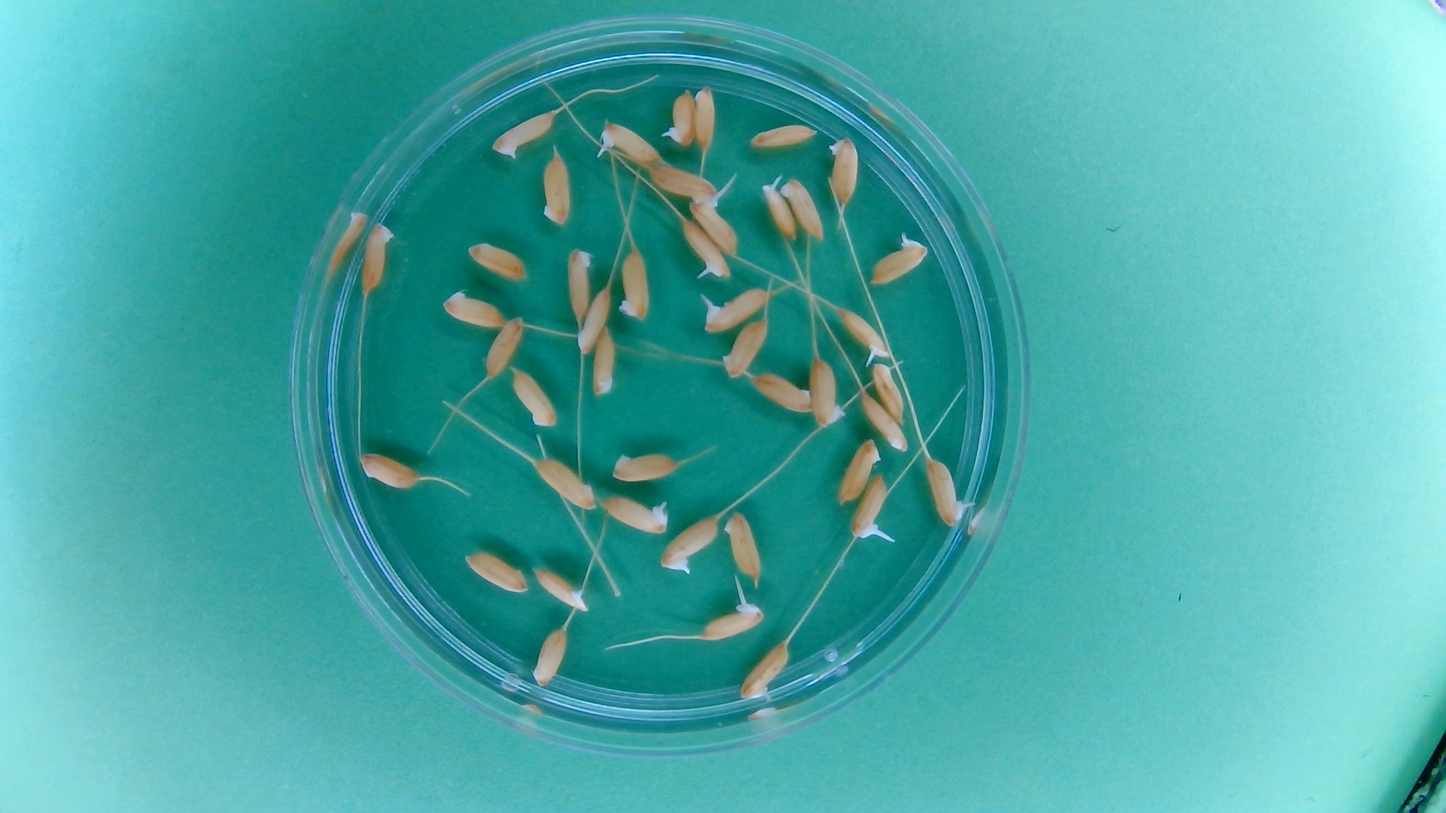no: (531, 454, 598, 512), (739, 638, 794, 701), (490, 109, 556, 161), (508, 365, 560, 430), (834, 436, 882, 505), (462, 548, 531, 595), (723, 507, 764, 584), (721, 316, 770, 380), (779, 175, 826, 241), (807, 352, 847, 429), (749, 368, 814, 415), (860, 390, 909, 452), (480, 314, 526, 380), (463, 238, 530, 282), (358, 220, 396, 297), (439, 287, 507, 330), (617, 245, 654, 324), (646, 163, 719, 203), (539, 148, 575, 227), (825, 134, 863, 207), (355, 449, 421, 491), (574, 283, 613, 354), (608, 447, 682, 483), (531, 624, 569, 688), (870, 359, 907, 424), (564, 245, 594, 325), (745, 120, 818, 151), (592, 324, 618, 397), (691, 83, 718, 152)
yes: (659, 512, 721, 574), (923, 455, 970, 529), (699, 285, 770, 333), (679, 217, 731, 280), (598, 492, 672, 535), (835, 304, 890, 361), (869, 235, 929, 286), (596, 120, 662, 166), (689, 196, 740, 255), (850, 470, 891, 541), (532, 563, 590, 613), (698, 601, 763, 642), (758, 178, 796, 241), (668, 86, 697, 147)
